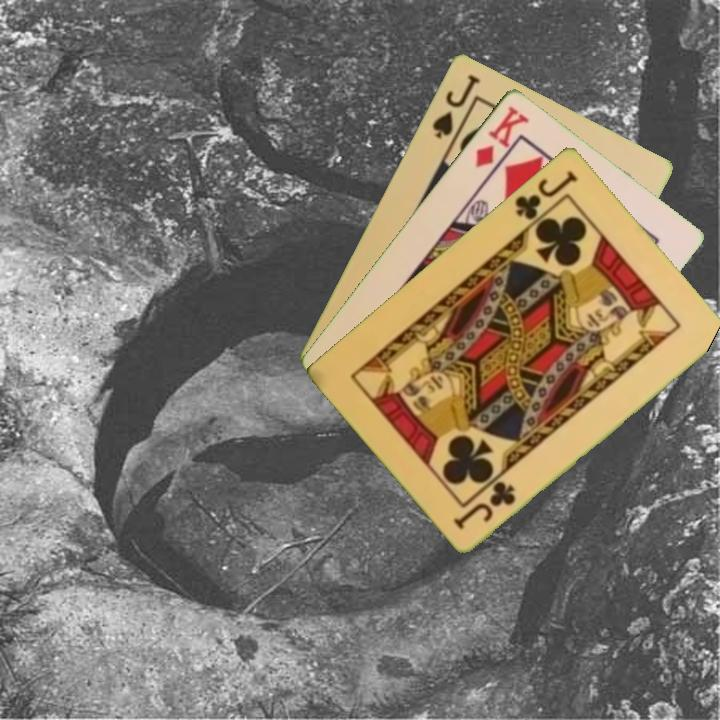Jc: (511, 166, 581, 231), (451, 476, 519, 532)
Js: (428, 70, 483, 141)
Kd: (471, 101, 532, 171)
